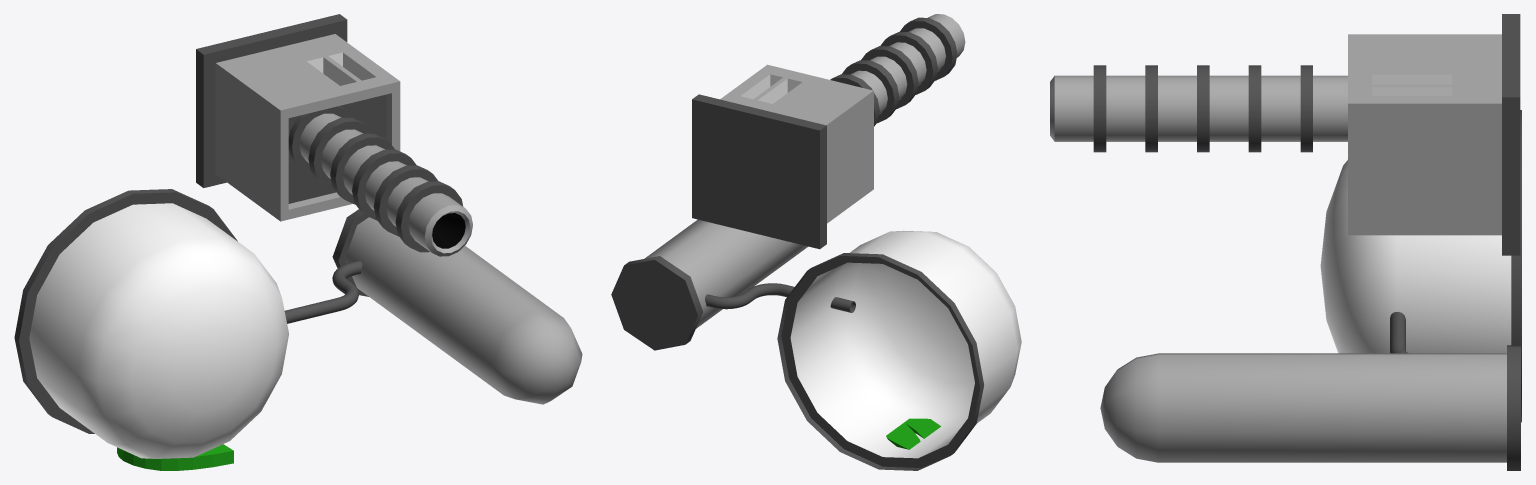
Rendered from biomass.obj.
3 renders of one model, left to right at view 1: azimuth 30°, elevation 25°; view 2: azimuth 150°, elevation 25°; view 3: azimuth 270°, elevation 25°, orthographic. The views are drawn at different scales.
Visible parts, largest first — view 1: biomass, biomass_logo; view 2: biomass, biomass_logo; view 3: biomass.
Part boxes in pixels (x1,y1,x2,y2): biomass: (14, 14, 582, 458); biomass_logo: (117, 444, 233, 470); biomass: (611, 14, 1021, 470); biomass_logo: (886, 418, 940, 449); biomass: (1050, 14, 1521, 470).
Size of the model in its own units: 9.68 by 8.11 by 8.02.
